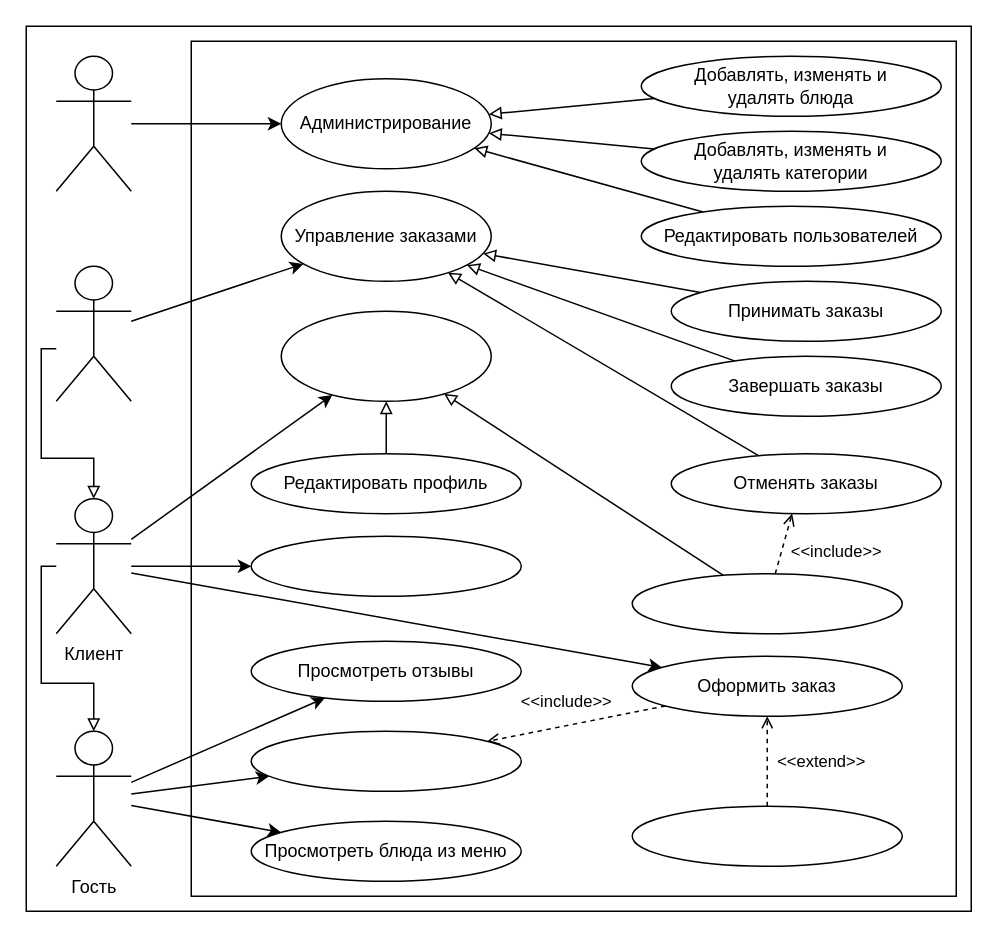
Some shapes in this 998 by 938 pixel diagram are drawn without their labels. Each missing label, with the centre of its shape:
Администратор: (x=93, y=123)
Добавить адрес доставки: (x=766, y=835)
Добавлять блюда в корзину: (x=385, y=760)
Менеджер: (x=93, y=333)
Оставлять отзывы: (x=385, y=565)
Просмотреть свои заказы: (x=766, y=603)
Управление аккаунтом: (x=385, y=355)
